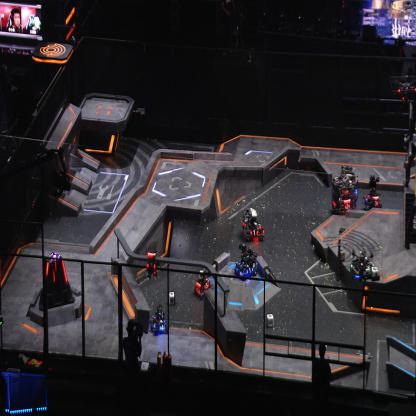car: (331, 174, 355, 217), (337, 163, 359, 208), (234, 242, 257, 282), (241, 206, 266, 242), (148, 302, 170, 336), (363, 174, 383, 209), (192, 269, 215, 299), (360, 194, 378, 220)
